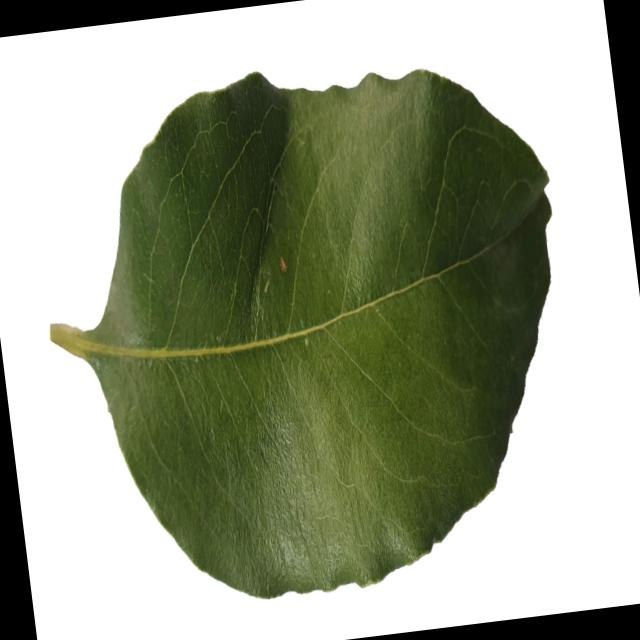Medicinal-Sandalwood: (20, 34, 594, 616)
